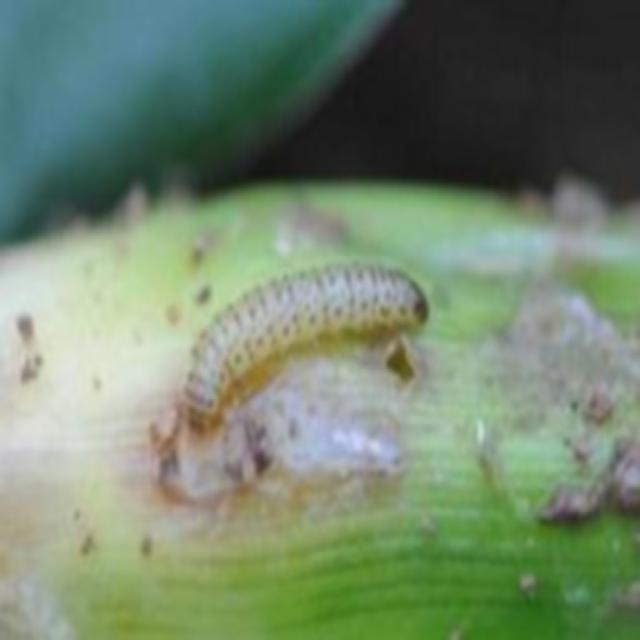peach borer: (180, 256, 435, 434)
